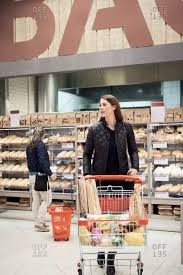with_basket: (72, 170, 149, 275)
without_mask: (98, 93, 116, 118)
